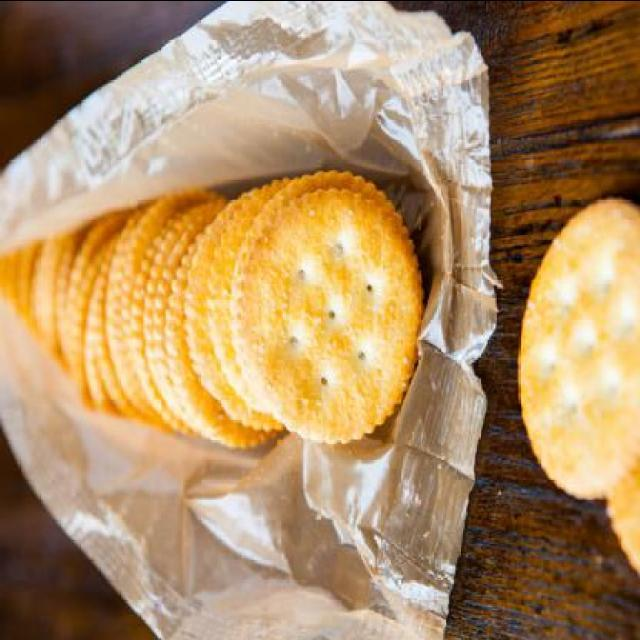Ritz cracker packaged: (61, 160, 408, 464)
